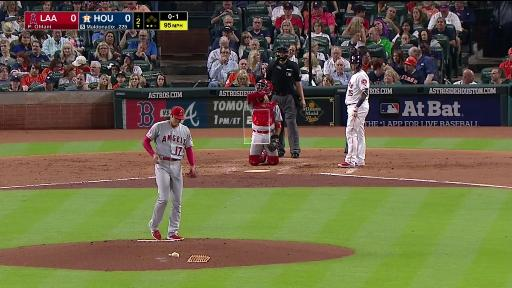pitcher: (144, 105, 197, 241)
